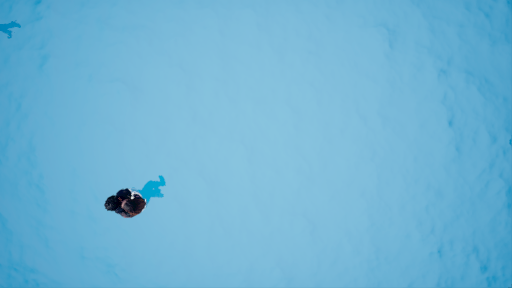person: (94, 179, 176, 219)
